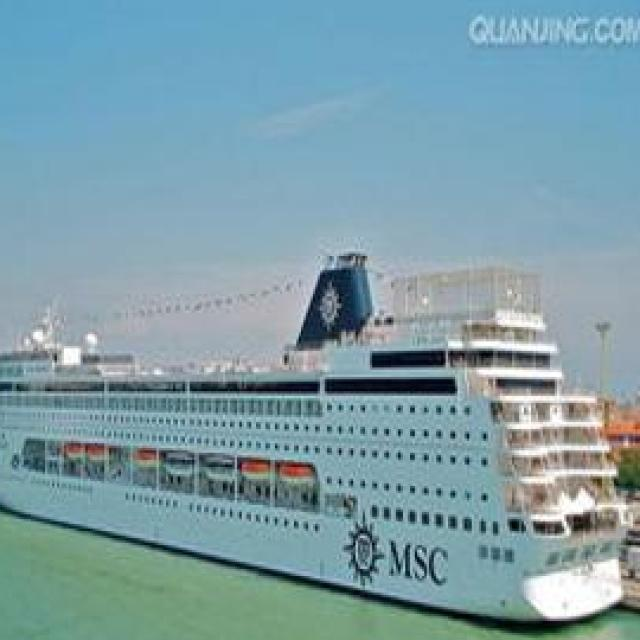passenger ship: (0, 261, 631, 626)
